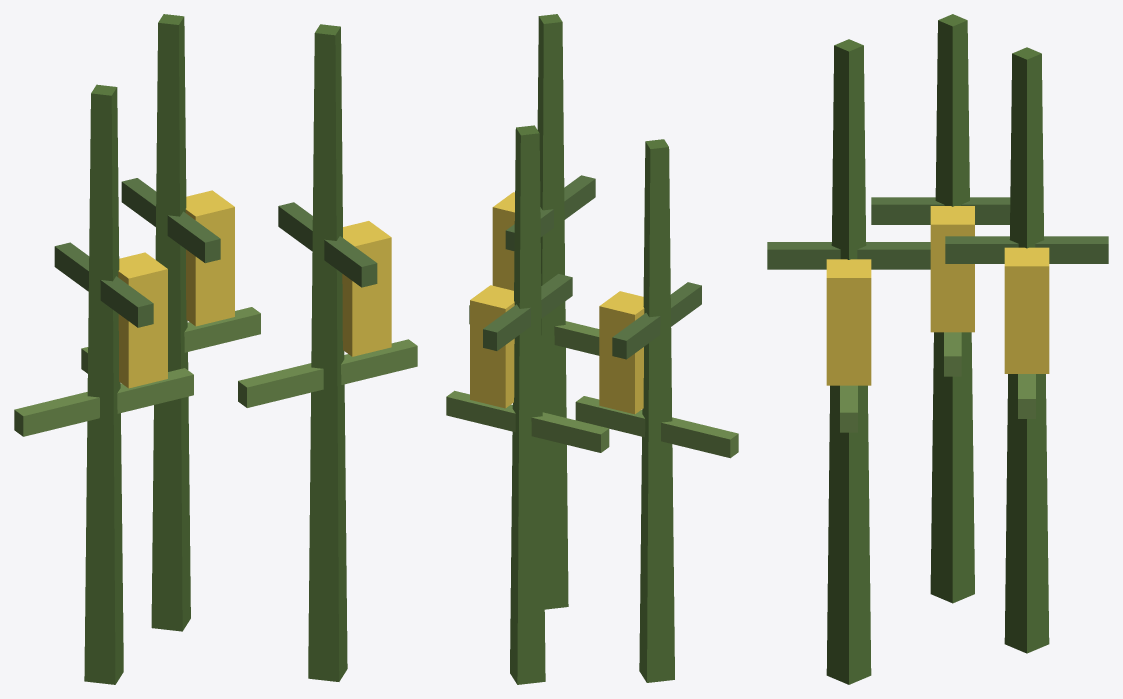
The model's file is corn_1.obj.
3 renders of one model, left to right at view 1: azimuth 30°, elevation 25°; view 2: azimuth 150°, elevation 25°; view 3: azimuth 270°, elevation 25°, orthographic. The views are drawn at different scales.
Visible parts, largest first — view 1: corn_1; view 2: corn_1; view 3: corn_1.
Boxes of the visible parts, left/top/right/bottom form: corn_1: left=14, top=14, right=417, bottom=684; corn_1: left=446, top=14, right=738, bottom=684; corn_1: left=767, top=14, right=1108, bottom=684.
Size of the model in its own units: 0.52 by 0.9376 by 0.46.
